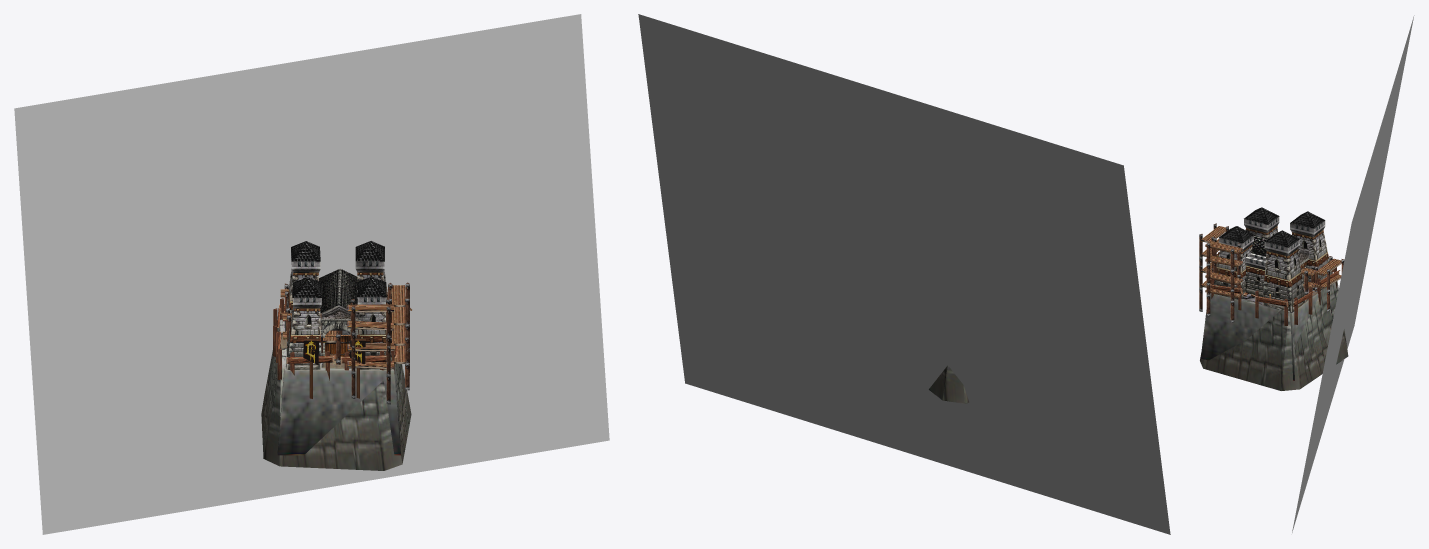
Rendered from HumanBarracks.fbx.
3 views of the same model, side by side, from view 1: azimuth 30°, elevation 25°; view 2: azimuth 150°, elevation 25°; view 3: azimuth 270°, elevation 25° (orthographic). The views are drawn at different scales.
Visible parts, largest first — view 1: Mesh13, Mesh02, Mesh12, Mesh01, Mesh08, Mesh05, Mesh11; view 2: Mesh13, Mesh12; view 3: Mesh02, Mesh13, Mesh12, Mesh05, Mesh01, Mesh08, Mesh11, Mesh09, Mesh04.
Boxes of the visible parts, x1,y1,x2,y2 form: Mesh13: [14, 14, 609, 534]; Mesh02: [277, 253, 400, 455]; Mesh12: [261, 319, 411, 470]; Mesh01: [291, 241, 386, 364]; Mesh08: [322, 282, 409, 364]; Mesh05: [280, 283, 409, 404]; Mesh11: [273, 308, 411, 380]; Mesh13: [638, 14, 1170, 534]; Mesh12: [929, 365, 969, 403]; Mesh02: [1200, 217, 1331, 380]; Mesh13: [1292, 15, 1414, 532]; Mesh12: [1200, 281, 1348, 390]; Mesh05: [1199, 256, 1344, 322]; Mesh01: [1216, 207, 1324, 256]; Mesh08: [1199, 223, 1242, 291]; Mesh11: [1255, 270, 1333, 325]; Mesh09: [1241, 230, 1323, 289]; Mesh04: [1210, 267, 1340, 310].
Bounding box in the file's own units: 1211 × 867 × 528.
